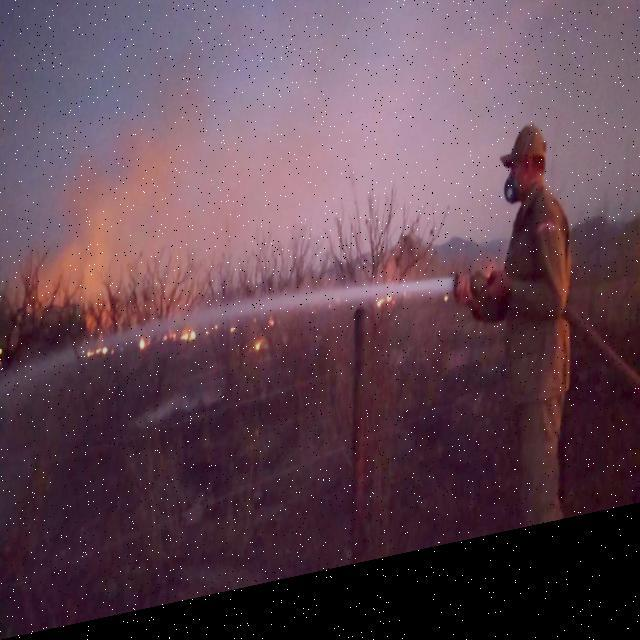Fire: (378, 308, 392, 326), (182, 336, 196, 350), (138, 342, 146, 357), (254, 349, 262, 362)
